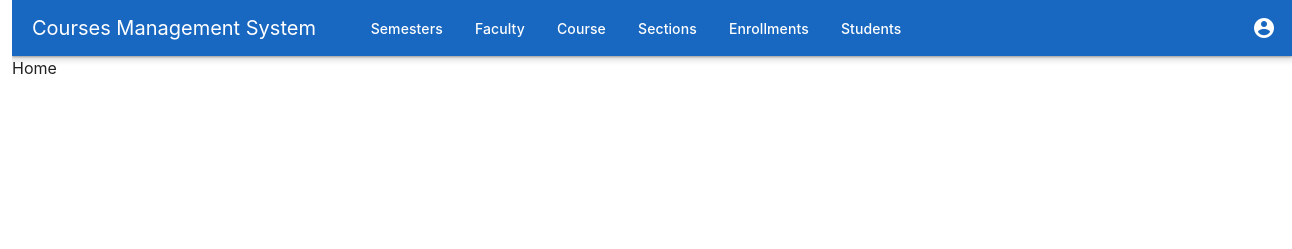
it: Feature 2 — Semester Management › US-2.1 — Open the semesters view › Faculty opens semesters from the menu
Click the button "Semesters": (407, 28) [355,10,459,46]
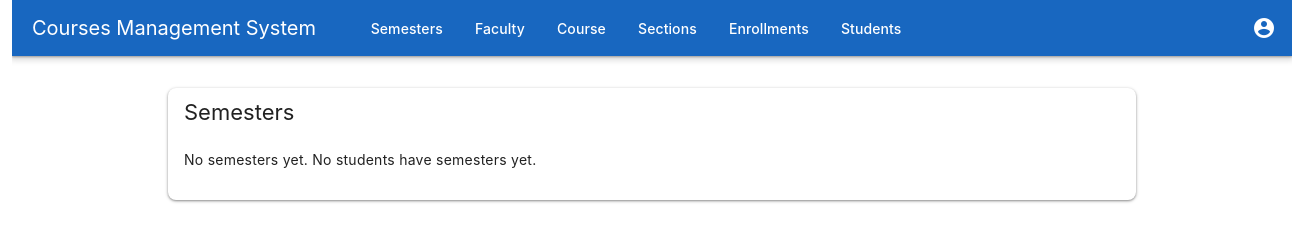
Expected: the text "Semesters" is shown, [371,20,443,36]
Expected: the element showing "Semesters No semesters yet. No students have semesters yet." is shown, [152,56,1152,232]
